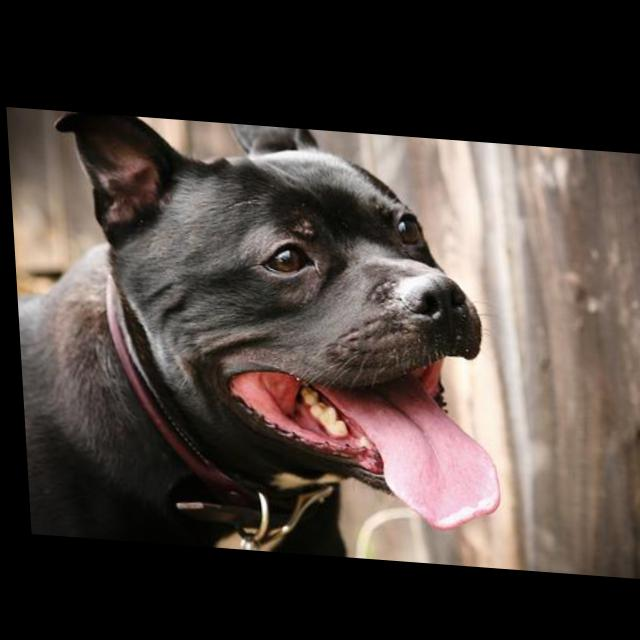staffford: (6, 108, 499, 562)
